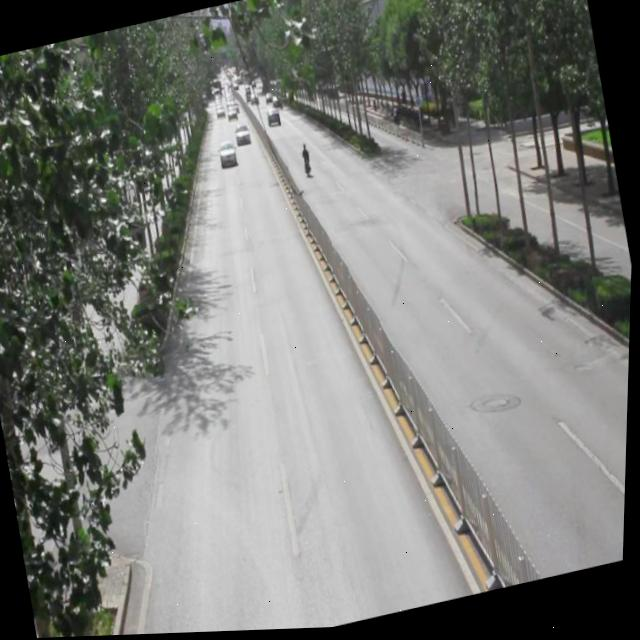car: (216, 141, 238, 169), (233, 124, 253, 149)
